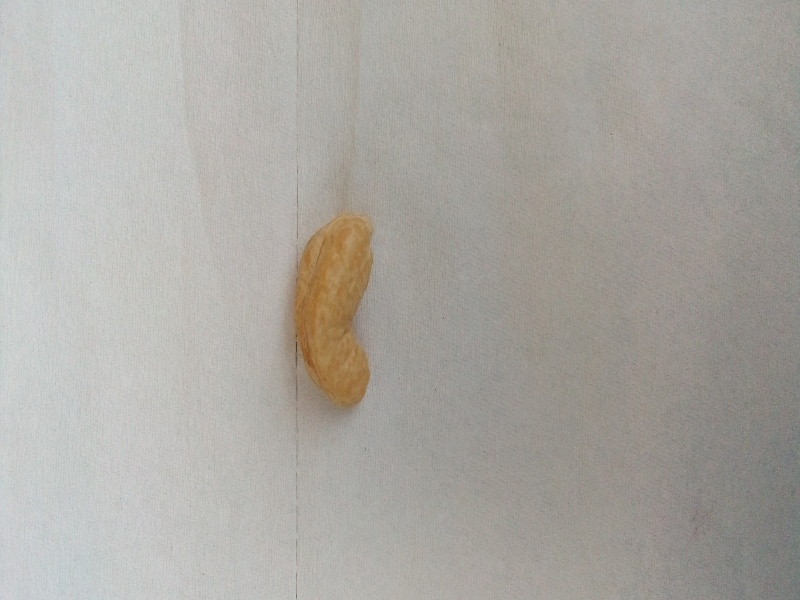cashew: (263, 197, 408, 426)
